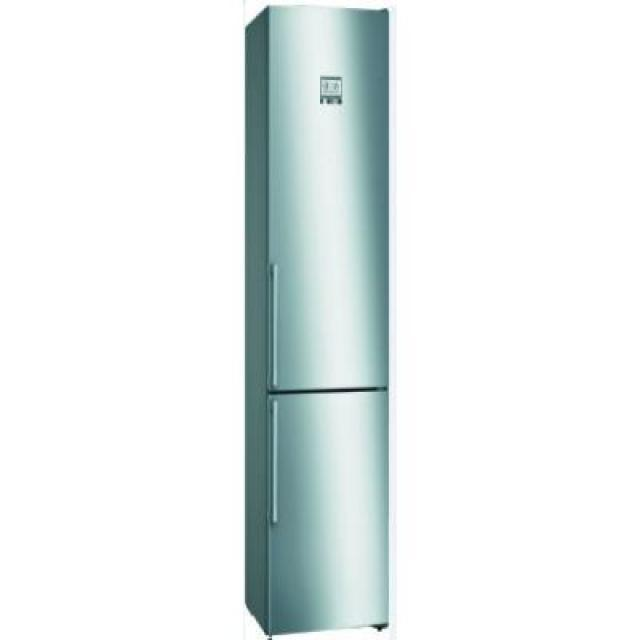refrigerator: (244, 4, 390, 626)
